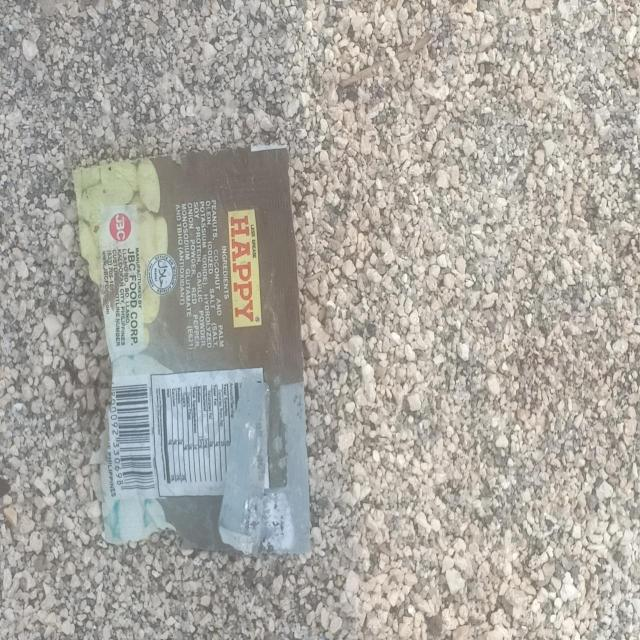plastic_waste: (71, 143, 302, 558)
